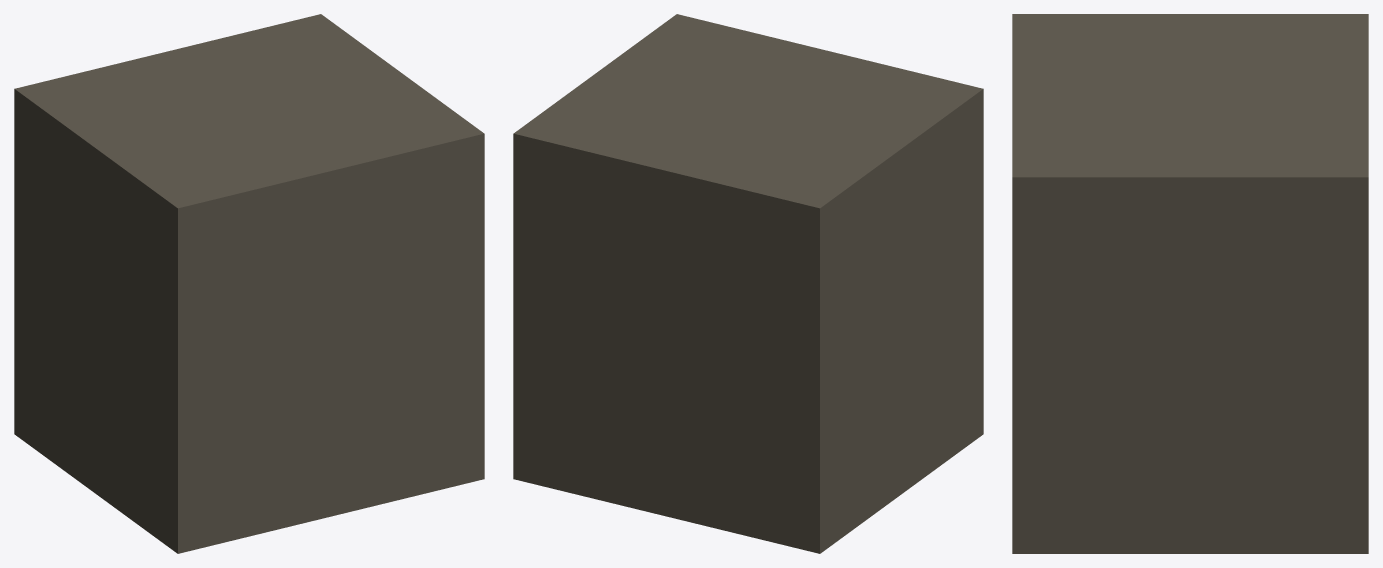
The model's file is prop_furnace.glb.
3 views of the same model, side by side, from view 1: azimuth 30°, elevation 25°; view 2: azimuth 150°, elevation 25°; view 3: azimuth 270°, elevation 25° (orthographic). The views are drawn at different scales.
Parts seen in each view (by area): view 1: prop_furnace; view 2: prop_furnace; view 3: prop_furnace.
Part boxes in pixels (x1,y1,x2,y2): prop_furnace: (14, 14, 484, 553); prop_furnace: (513, 14, 983, 553); prop_furnace: (1012, 14, 1368, 553).
Bounding box in the file's own units: 0.65 × 0.7 × 0.6.
Materials: 1 (1 with a texture image).
